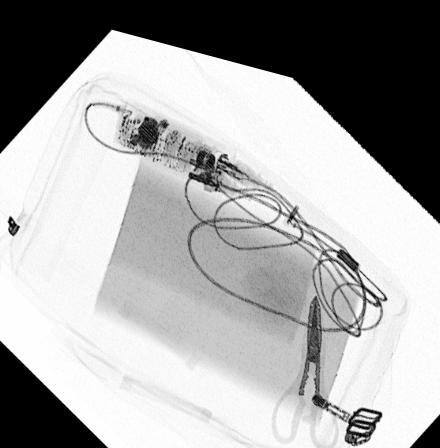Scissors: (270, 274, 340, 435)
